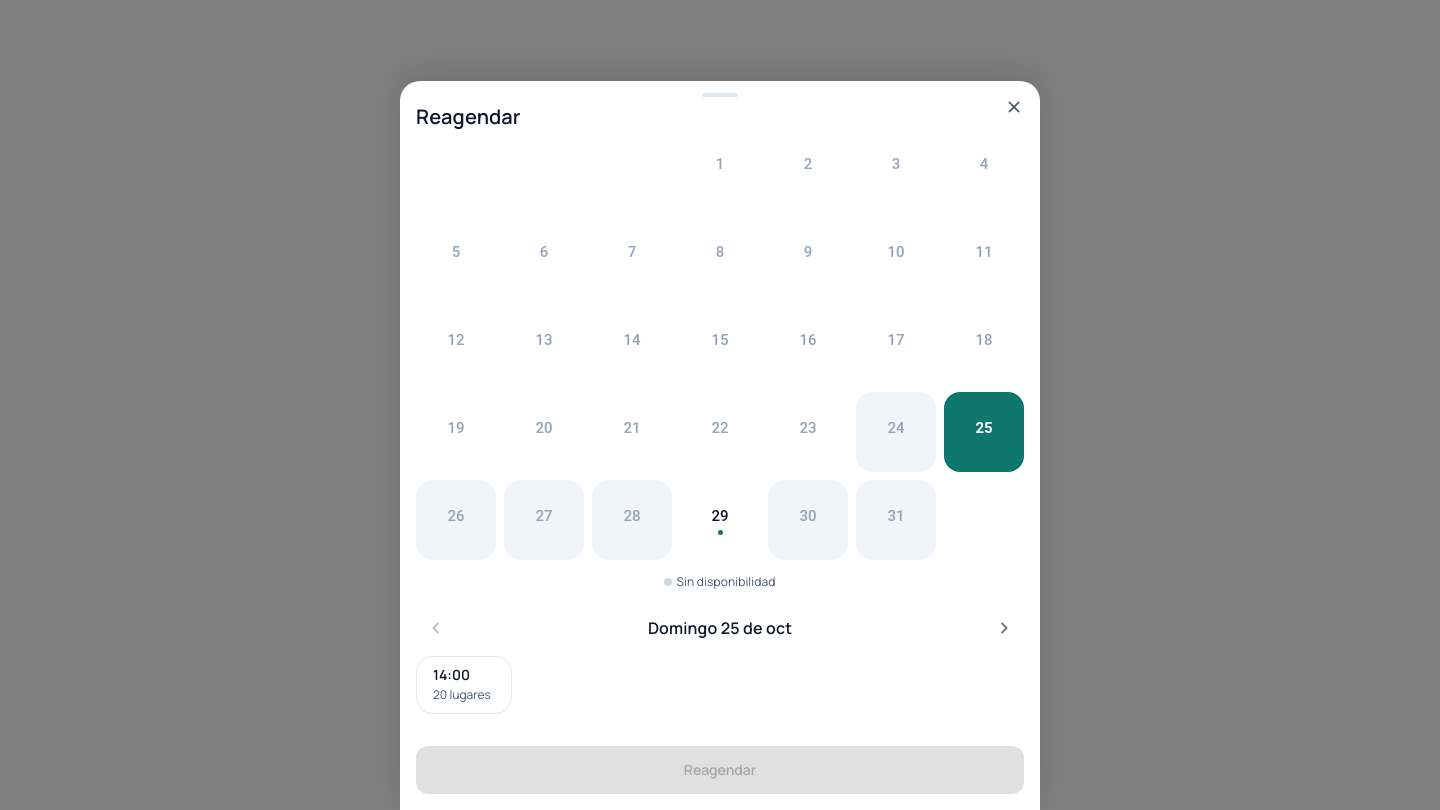
Test: RescheduleSheet — the day pager › a paid move chains straight into sending the new ticket
This screenshot has width=1440, height=810.
(page scrolled)
Click the button "14:00 20 lugares". click: (464, 685)
box: [416,656,512,714]
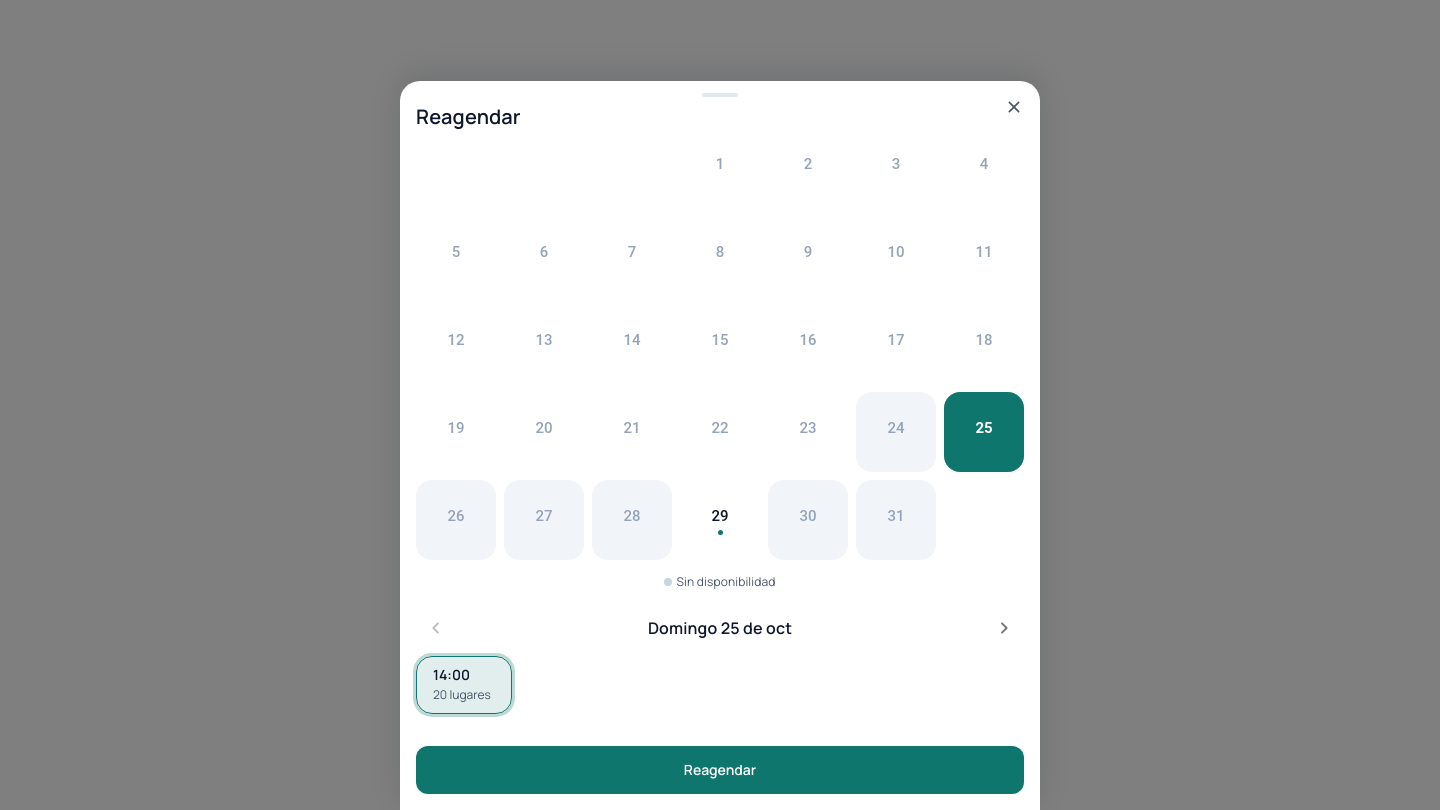
Click the button "Reagendar". click: (720, 770)
box: [416,746,1024,794]
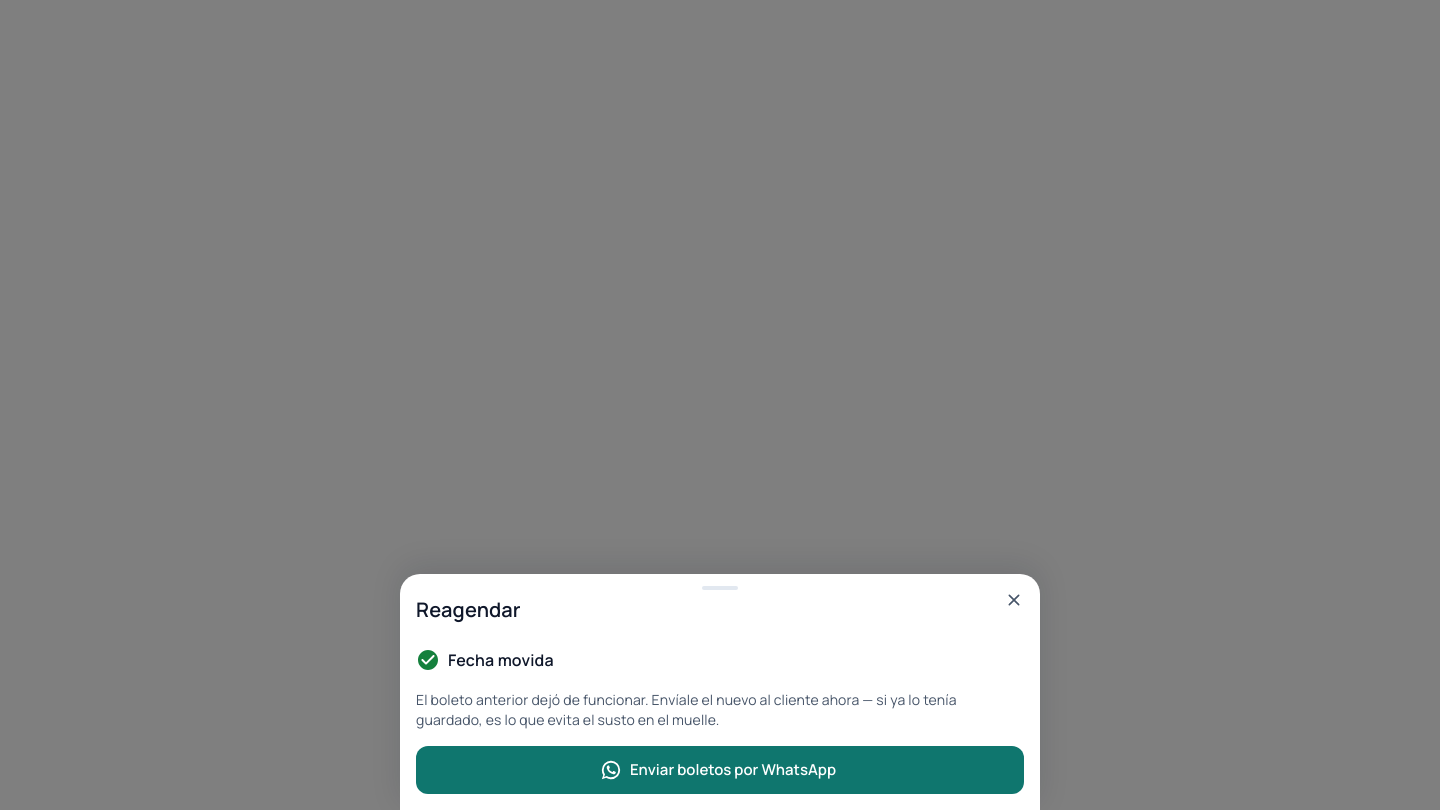
Result: the text "Fecha movida" is shown at [448,646,554,674]
Result: the button "Enviar boletos por WhatsApp" is enabled at [416,746,1024,794]
